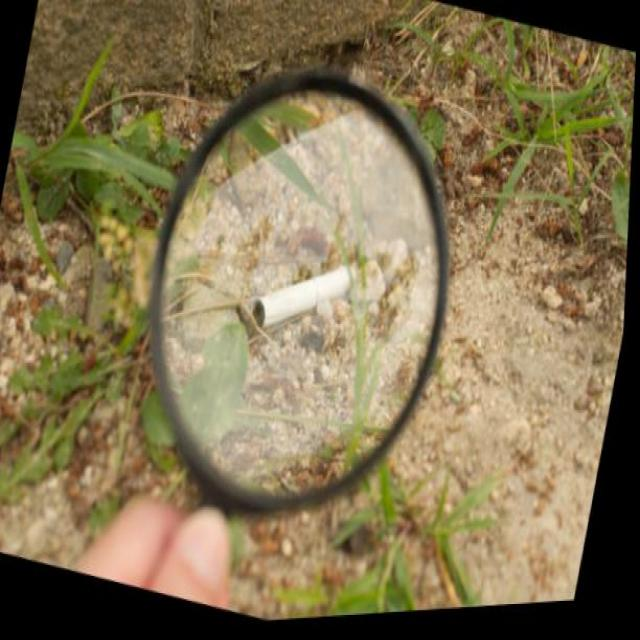cigarette: (250, 232, 366, 362)
